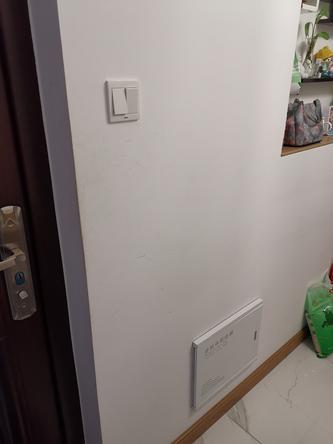switch: (110, 84, 129, 119), (123, 84, 141, 118)
